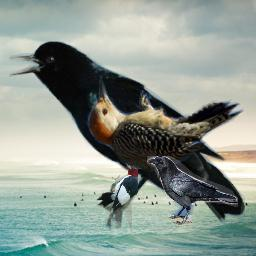Crow: (9, 41, 245, 229), (147, 156, 238, 225)
Woodpecker: (76, 74, 250, 172), (96, 163, 138, 211)
